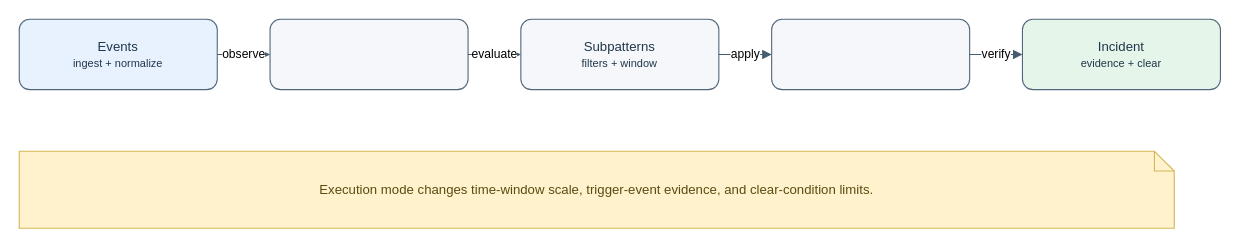
The diagram is 1240 pixels wide and 248 high, and some of its shapes have lost their labels. Each missing label, with the centre of its shape:
Aggregation group-by + threshold: the point at 870,54
Rule mode stream / schedule / SQL: the point at 368,54
